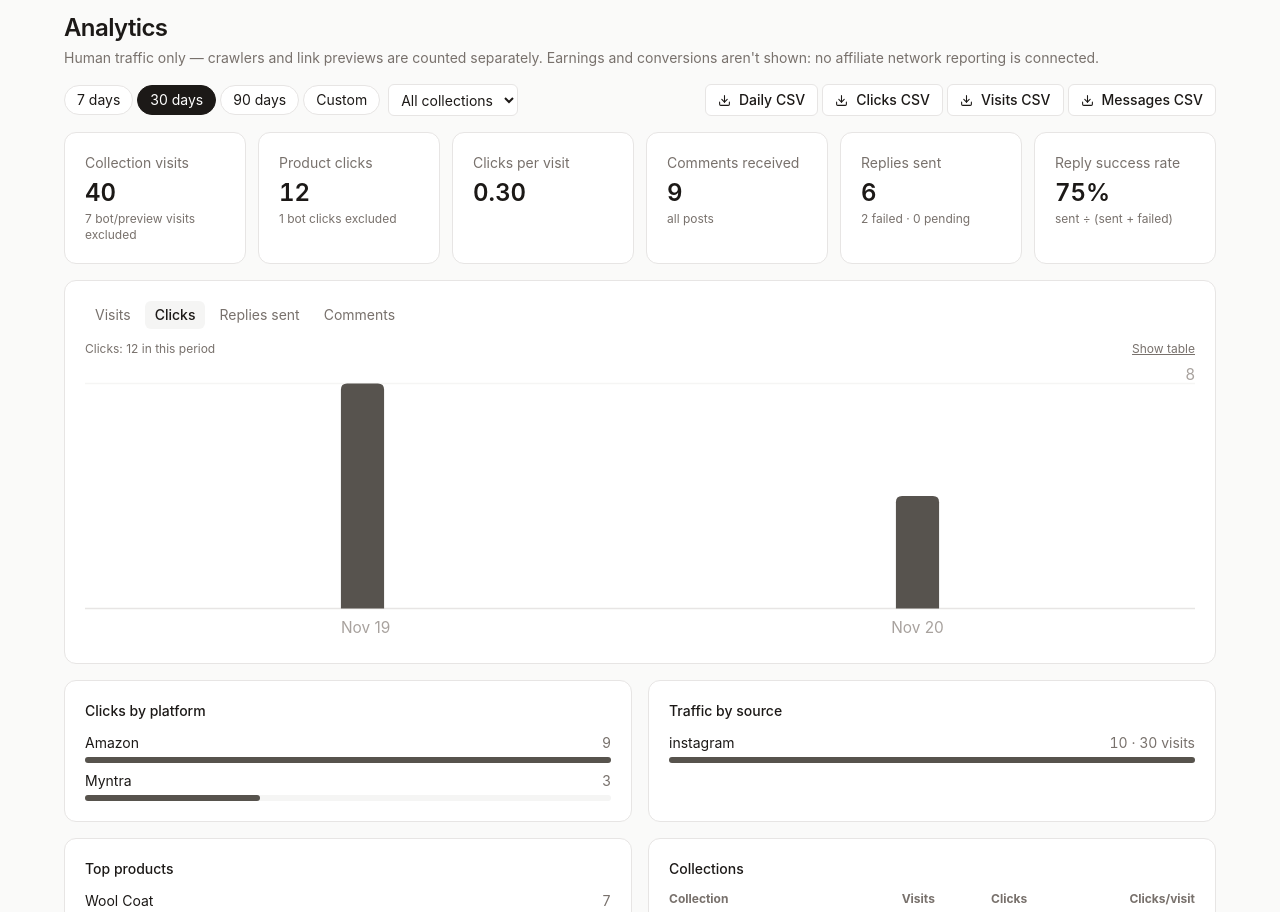
it: Analytics page › changing the range re-queries with the viewer's timezone; export saves the CSV
Check: the element "Collection visits" is shown, box [64,132,246,264]
Click the button "7 days": click(99, 100) [64,85,133,115]
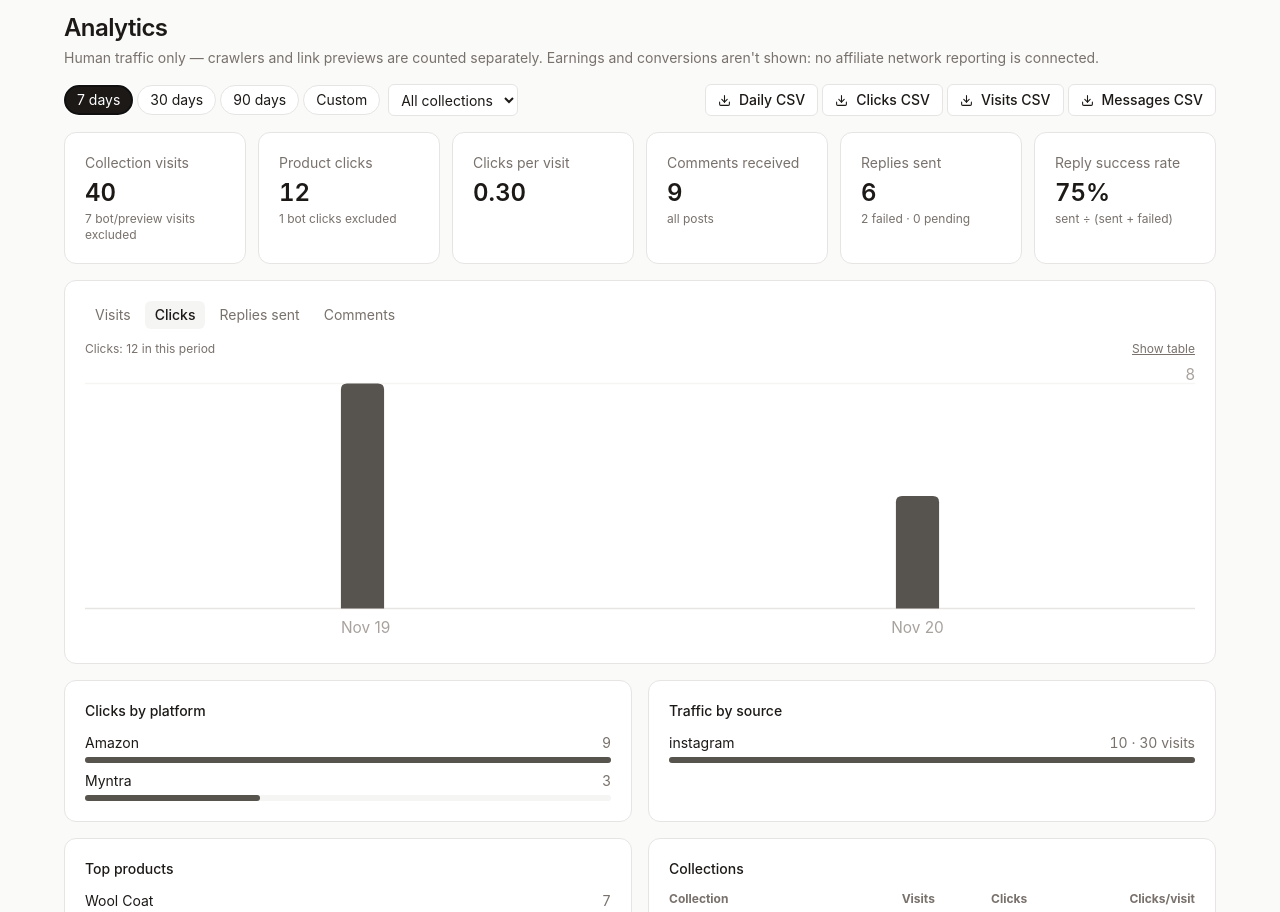
Click the button "Clicks CSV": click(882, 100) [822,84,943,116]
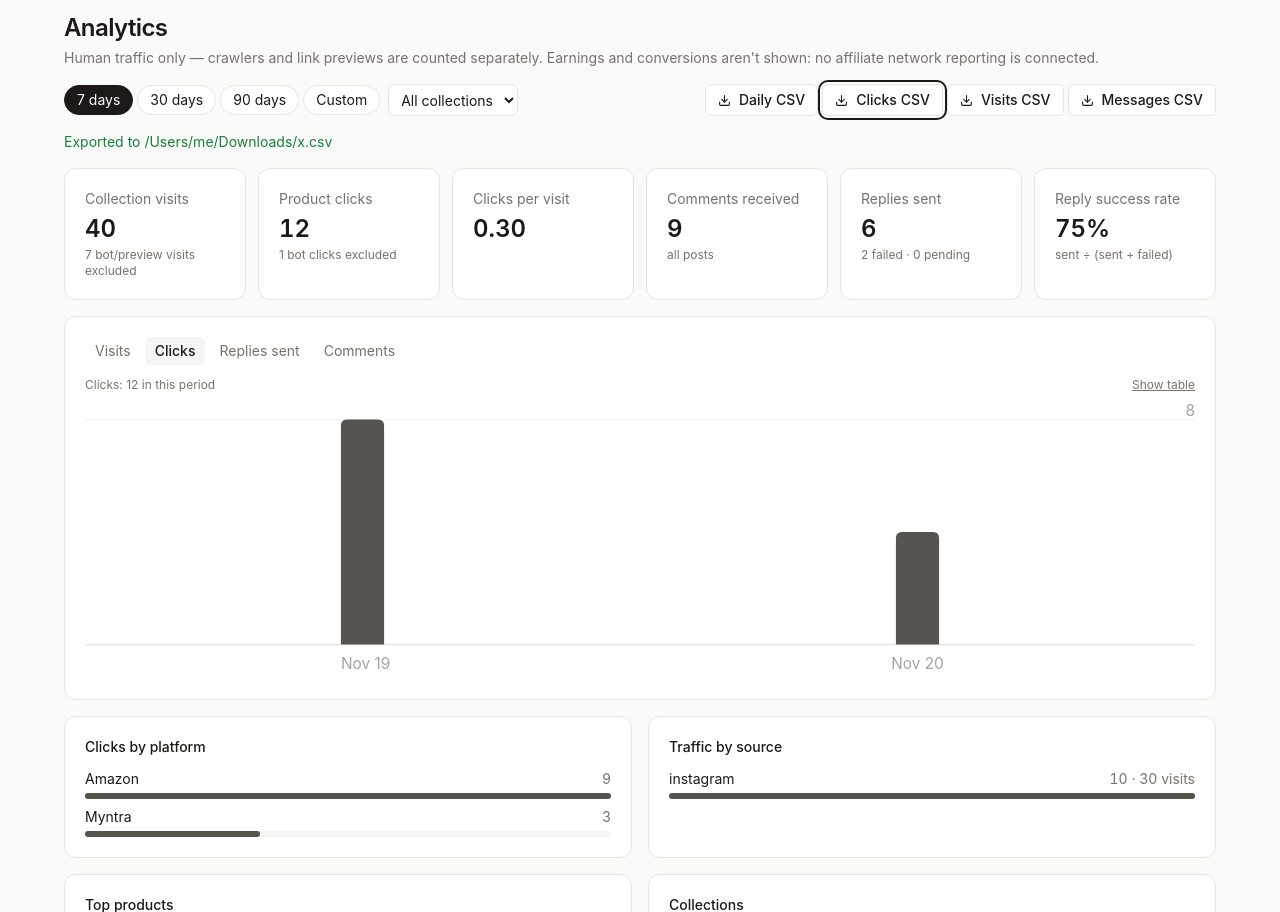
Check: the text "Exported to /Users/me/Downloads/x.csv" is shown, box [64,133,332,150]
